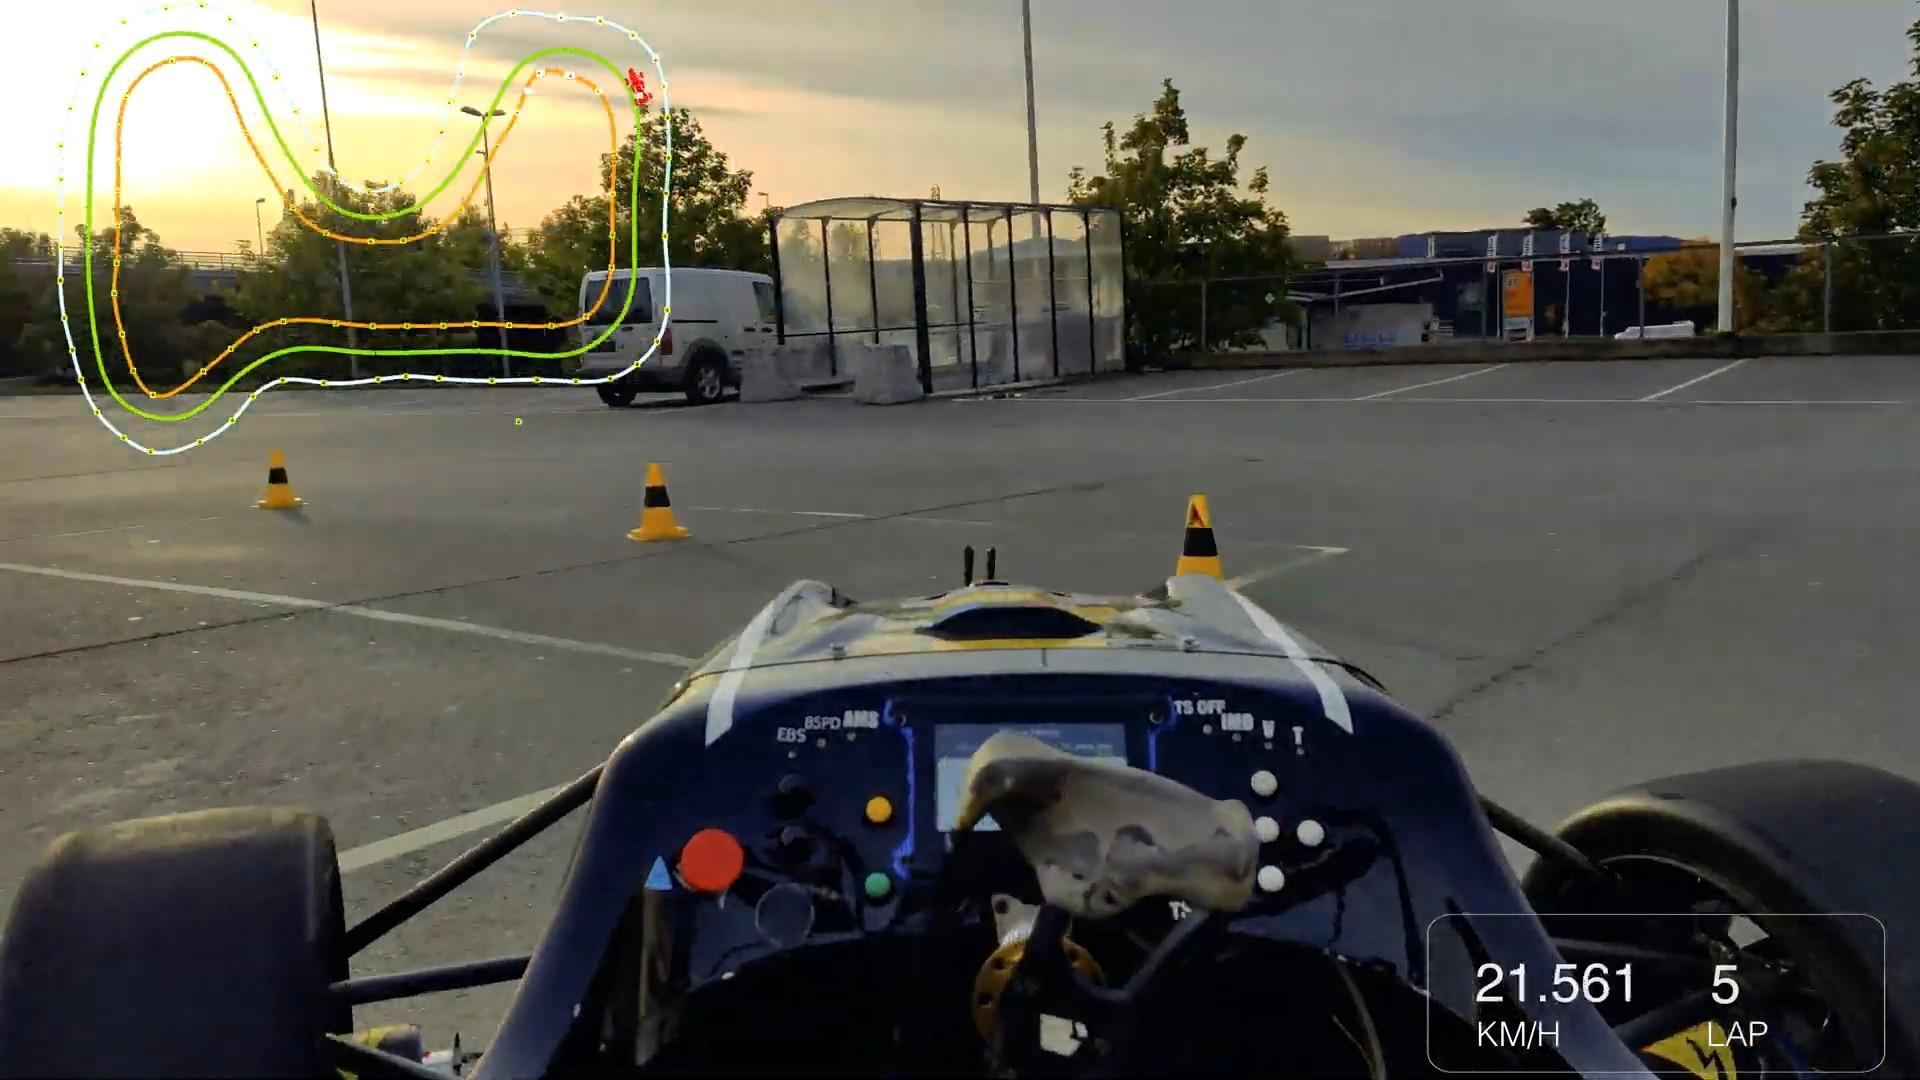yellow_cone: (1146, 481, 1252, 595), (616, 452, 699, 554), (247, 437, 313, 521)
